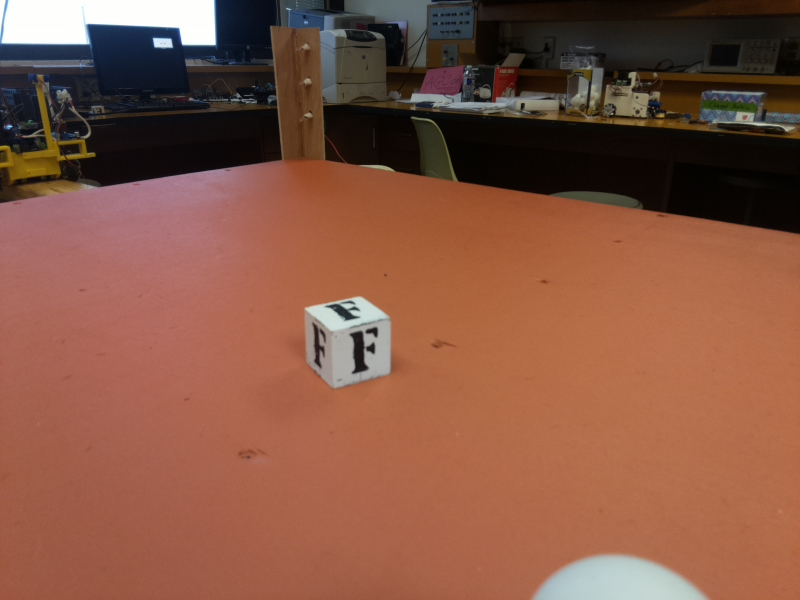blockF: (298, 293, 393, 383)
corner: (272, 32, 323, 167)
